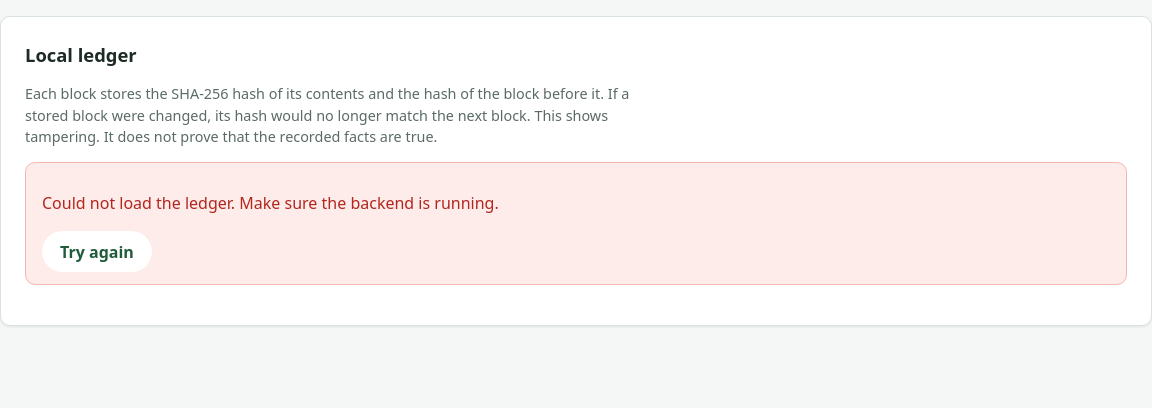
LedgerView › shows an error with a retry action, and loads again when retried
The width and height of the screenshot is (1152, 408).
Expected: the message "Could not load the ledger. Make sure the backend is running. Try again" is shown, [25,162,1127,285]
Expected: the message shows "Could not load the ledger", [42,192,499,214]
Click the button "Try again" at (97, 252), box [42,231,152,272]
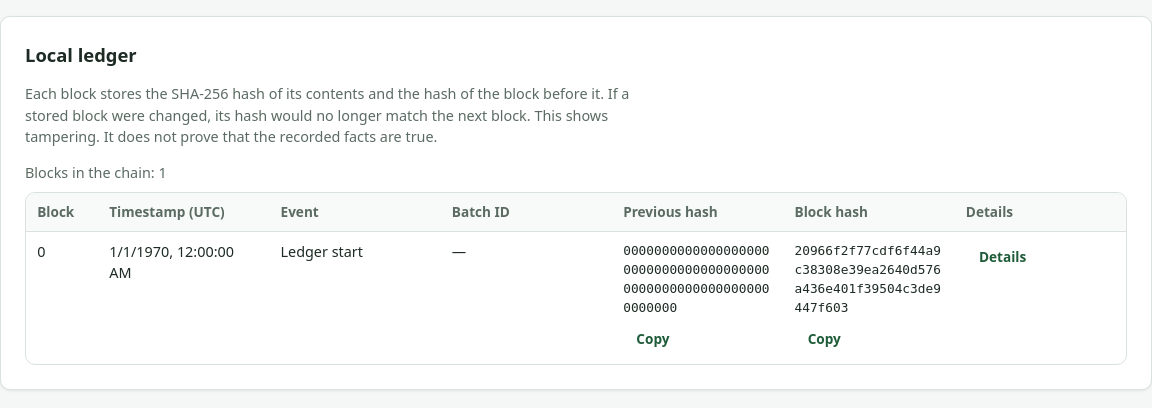
Expected: the text "Ledger start" is shown, [269,232,441,364]
Expected: the message "Could not load the ledger. Make sure the backend is running. Try again" is gone
